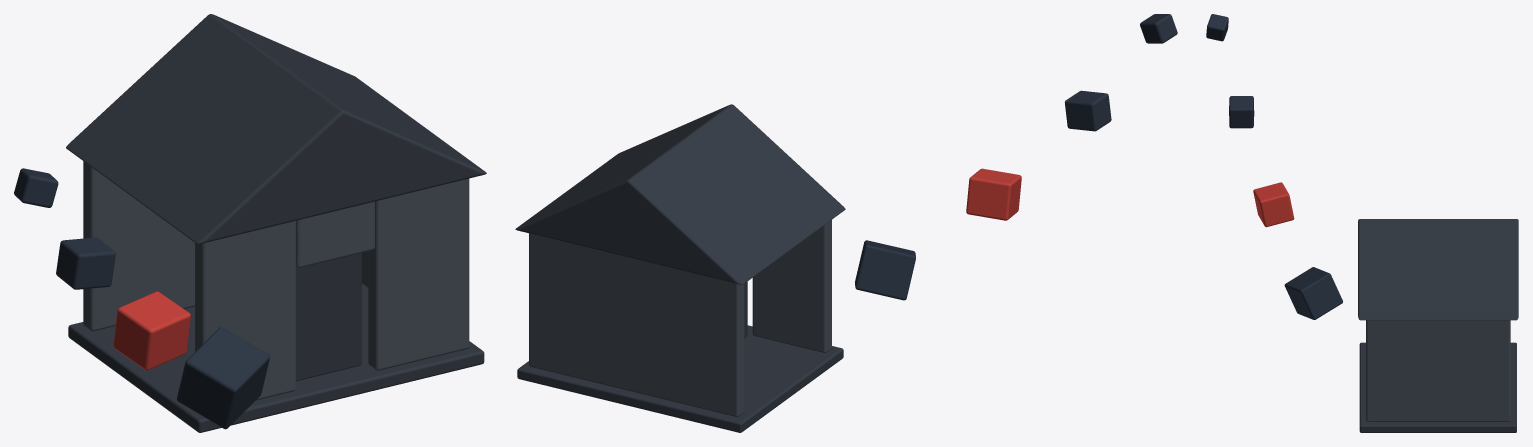
Rendered from house.glb.
3 views of the same model, side by side, from view 1: azimuth 30°, elevation 25°; view 2: azimuth 150°, elevation 25°; view 3: azimuth 270°, elevation 25° (orthographic). The views are drawn at different scales.
Parts seen in each view (by area): view 1: roof, pier1, pier0, wallB, base, reveal, lift0, lift1, lintel, lift2, lift3, wallR; view 2: roof, wallB, base, pier0, lift0, lift1, lift2, lift3, wallR; view 3: roof, wallR, base, lift0, lift1, pier1, wallB, lift2, lift3.
Part boxes in pixels (x1=…): roof: x1=66, y1=14, x2=486, y2=244; pier1: x1=368, y1=179, x2=467, y2=370; pier0: x1=195, y1=221, x2=295, y2=400; wallB: x1=83, y1=161, x2=194, y2=331; base: x1=68, y1=284, x2=484, y2=432; reveal: x1=296, y1=253, x2=361, y2=381; lift0: x1=177, y1=327, x2=269, y2=429; lift1: x1=113, y1=291, x2=190, y2=370; lintel: x1=296, y1=201, x2=374, y2=268; lift2: x1=56, y1=237, x2=115, y2=289; lift3: x1=14, y1=168, x2=58, y2=207; wallR: x1=362, y1=178, x2=469, y2=351; roof: x1=515, y1=104, x2=845, y2=284; wallB: x1=529, y1=233, x2=744, y2=417; base: x1=517, y1=325, x2=843, y2=432; pier0: x1=752, y1=220, x2=831, y2=353; lift0: x1=855, y1=240, x2=915, y2=300; lift1: x1=966, y1=168, x2=1021, y2=220; lift2: x1=1064, y1=90, x2=1111, y2=131; lift3: x1=1140, y1=14, x2=1177, y2=43; wallR: x1=530, y1=233, x2=538, y2=366; roof: x1=1358, y1=219, x2=1518, y2=320; wallR: x1=1366, y1=320, x2=1509, y2=421; base: x1=1359, y1=342, x2=1516, y2=432; lift0: x1=1284, y1=267, x2=1342, y2=319; lift1: x1=1253, y1=182, x2=1294, y2=227; pier1: x1=1366, y1=320, x2=1375, y2=422; wallB: x1=1501, y1=320, x2=1510, y2=422; lift2: x1=1229, y1=96, x2=1254, y2=128; lift3: x1=1206, y1=14, x2=1228, y2=41.
Size of the model in its own units: 5.06 by 3.45 by 3.89.
